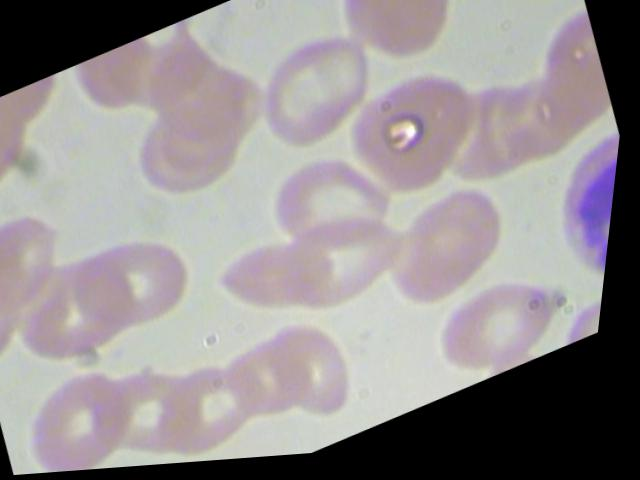Red Blood Cells: (333, 50, 511, 223), (364, 173, 540, 333), (228, 14, 396, 173), (11, 344, 168, 476), (61, 214, 212, 349), (210, 209, 360, 344), (432, 271, 580, 395), (73, 349, 215, 472), (313, 0, 486, 95), (151, 342, 279, 468), (265, 305, 384, 432), (222, 322, 334, 440)
White Blood Cells: (531, 141, 623, 323)
